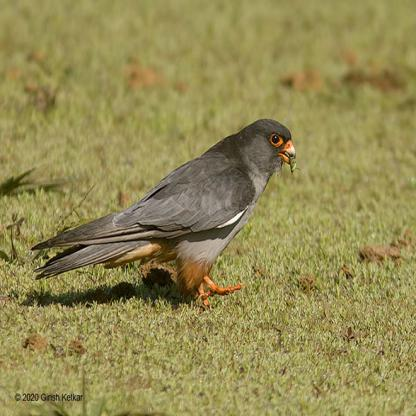Burung: (30, 117, 298, 308)
